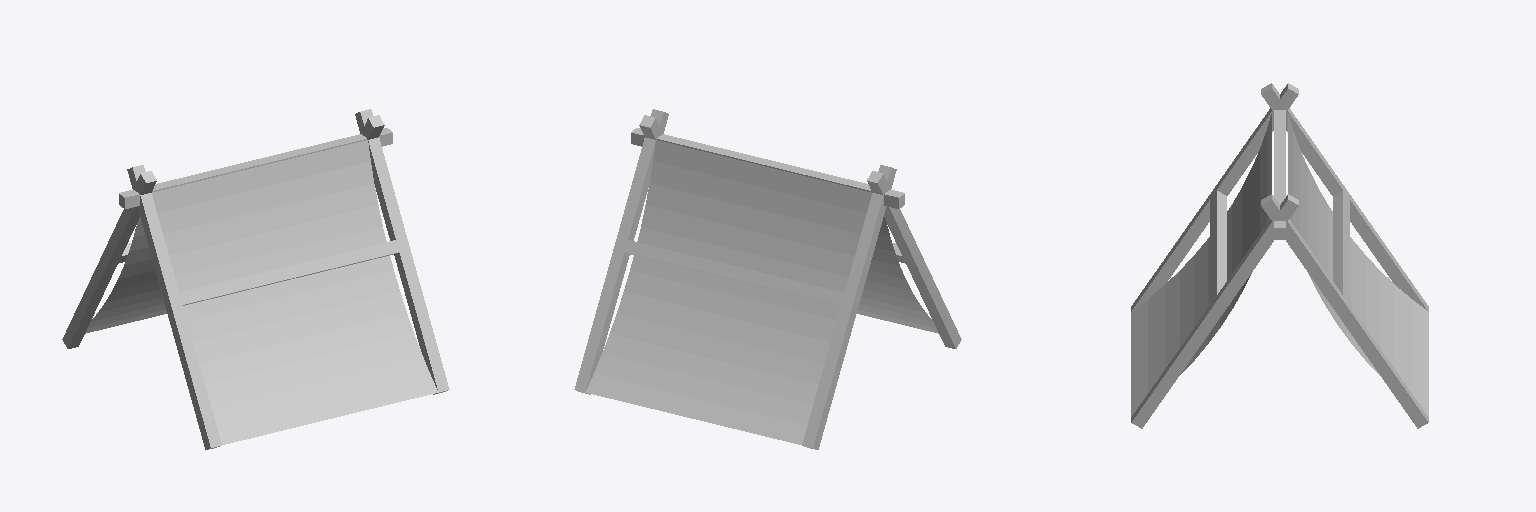
Rendered from tentClosed.obj.
3 views of the same model, side by side, from view 1: azimuth 30°, elevation 25°; view 2: azimuth 150°, elevation 25°; view 3: azimuth 270°, elevation 25° (orthographic).
Parts seen in each view (by area): view 1: tentClosed; view 2: tentClosed; view 3: tentClosed.
Part boxes in pixels (x1,y1,x2,y2): tentClosed: (62,109,449,449); tentClosed: (574,109,961,449); tentClosed: (1131,83,1428,428).
Bounding box in the file's own units: 2.25 × 1.84 × 2.16.